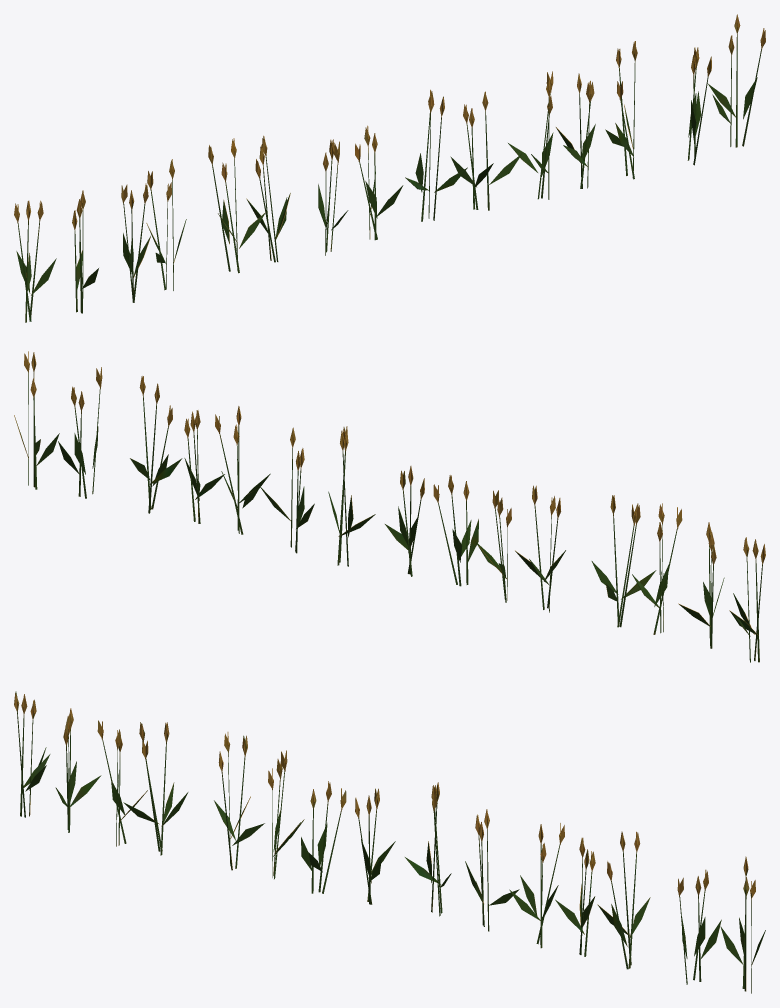
The model's file is farm_rows.glb.
The picture shows the model from 3 angles, top to bottom: view 1: azimuth 30°, elevation 25°; view 2: azimuth 150°, elevation 25°; view 3: azimuth 330°, elevation 25°; orthographic projection.
Parts seen in each view (by area): view 1: farm_rows; view 2: farm_rows; view 3: farm_rows.
Boxes of the visible parts, bbox=[...] form: farm_rows: bbox=[14, 14, 765, 322]; farm_rows: bbox=[14, 351, 765, 662]; farm_rows: bbox=[14, 691, 765, 993].
Bounding box in the file's own units: 3.68 × 0.6337 × 0.3225.
1 material, 1 textured.
